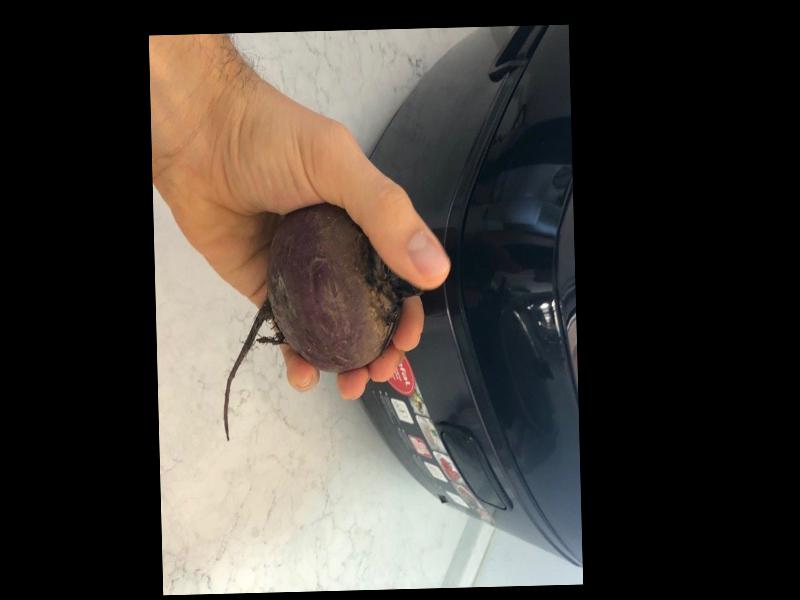Beet: (218, 202, 424, 440)
